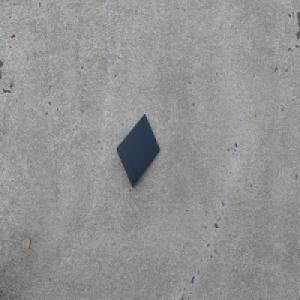PlasticPart: (116, 113, 160, 188)
